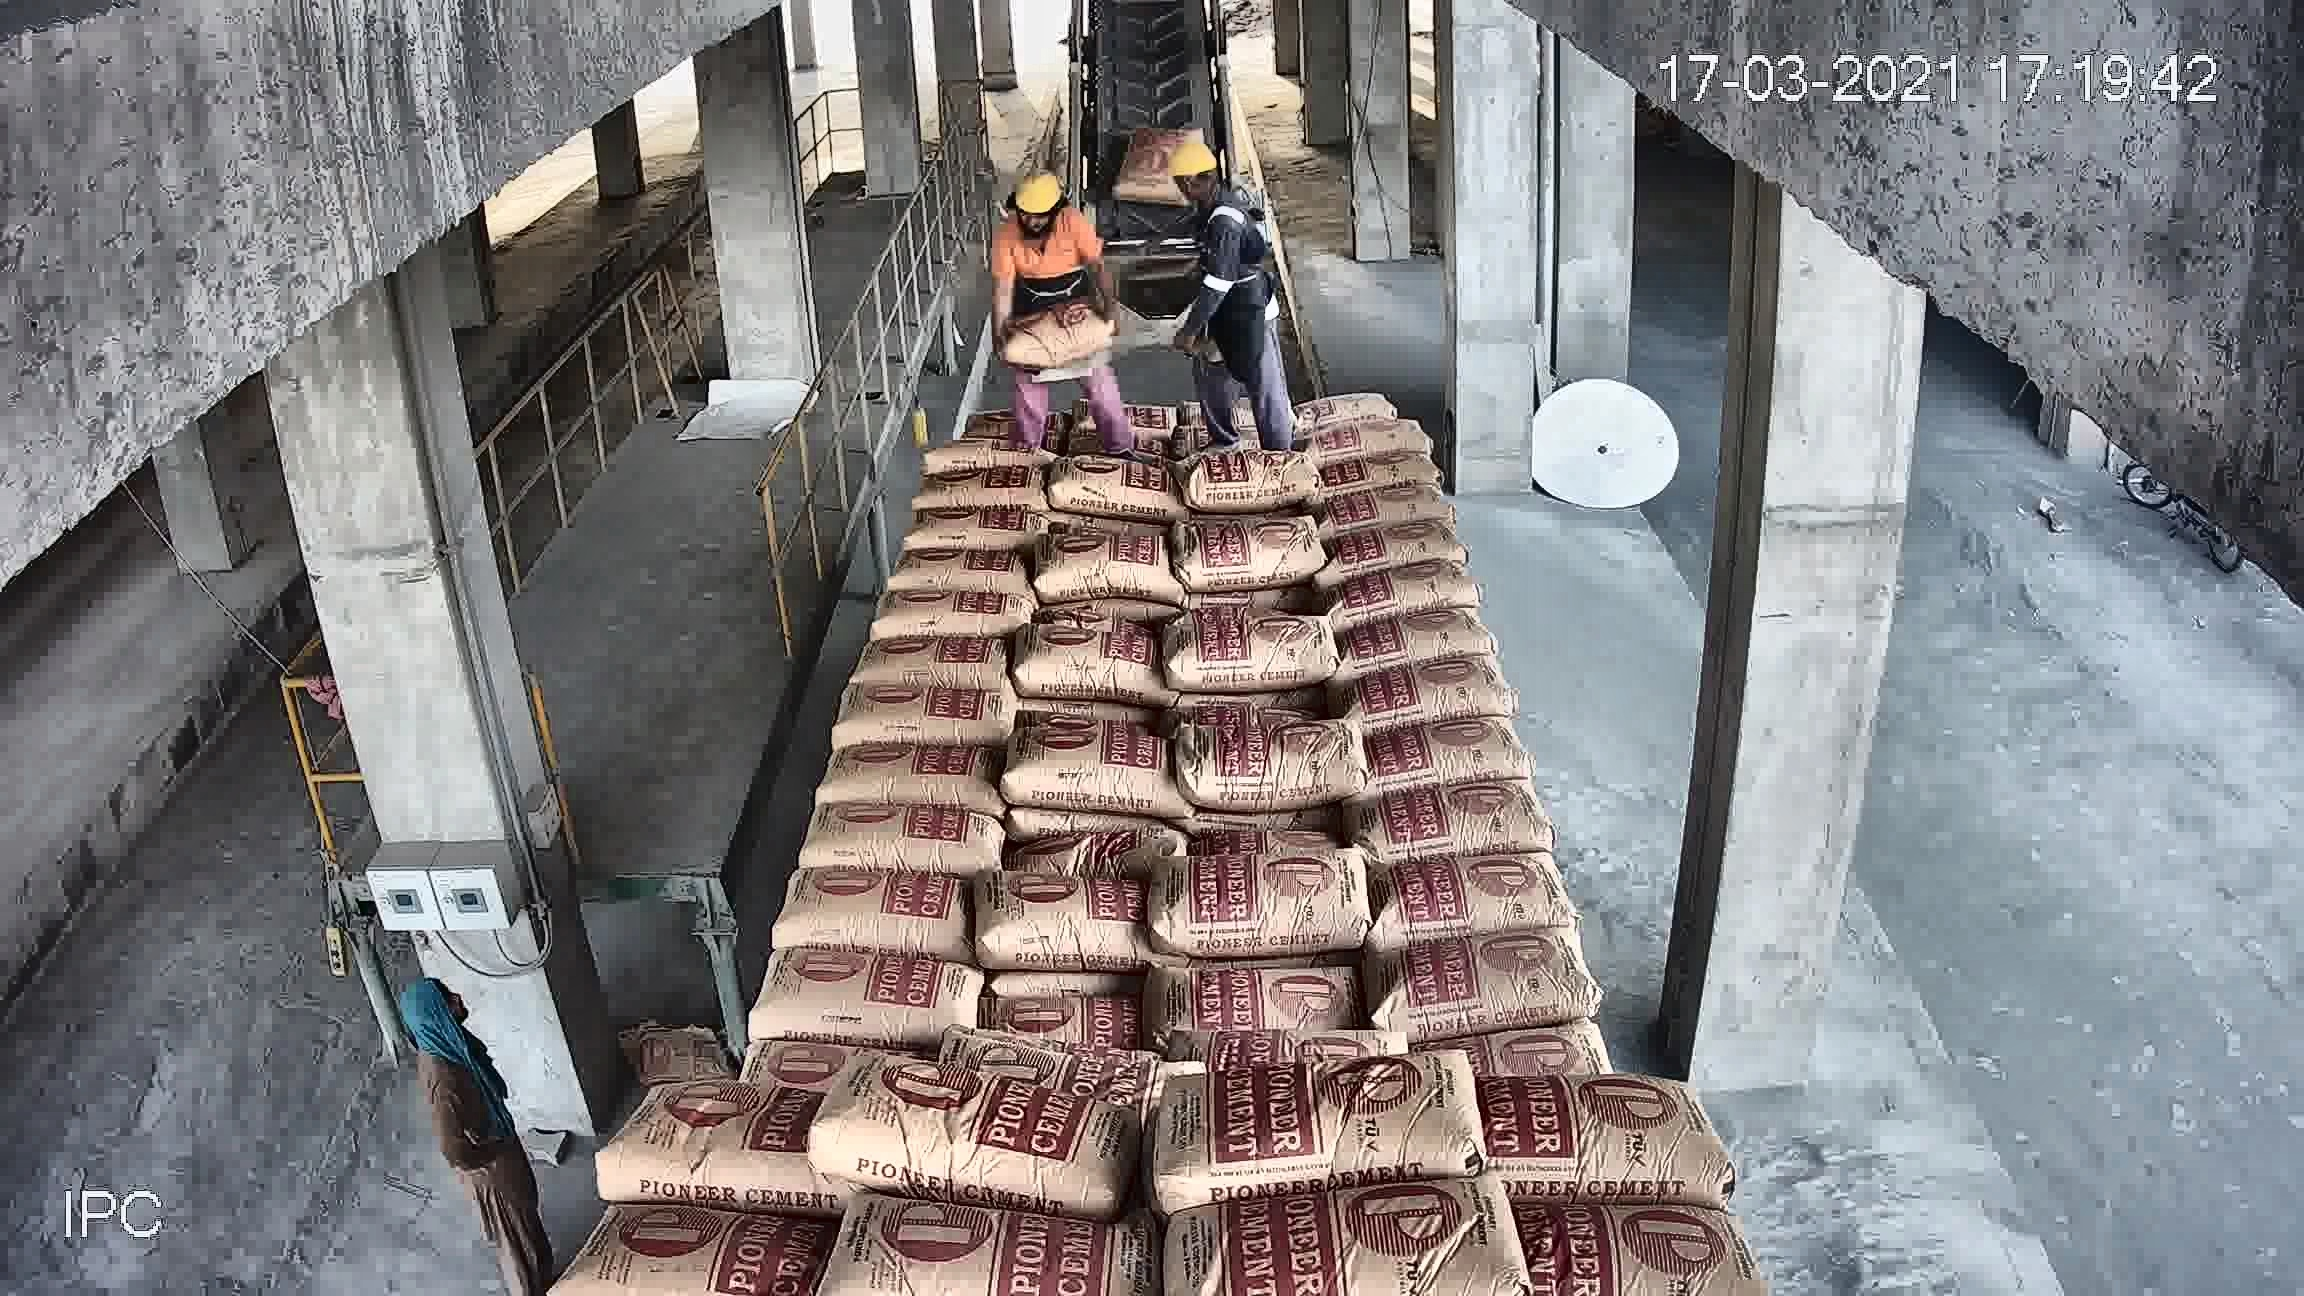bag: (1078, 361, 1223, 546), (1089, 22, 1211, 100)
bag_h: (1146, 1036, 1472, 1203), (804, 1051, 1152, 1195), (1165, 1155, 1514, 1296), (1480, 1071, 1719, 1206), (824, 1184, 1169, 1274), (585, 1074, 826, 1201), (1391, 899, 1612, 1035), (1161, 923, 1423, 1035), (1516, 1169, 1761, 1287), (949, 932, 1196, 1035), (530, 1199, 848, 1279), (744, 949, 973, 1055), (935, 994, 1215, 1073), (999, 756, 1171, 878), (1362, 836, 1581, 930), (748, 866, 975, 948), (1353, 771, 1554, 862), (962, 864, 1154, 954), (989, 707, 1165, 801), (994, 658, 1180, 745), (1442, 986, 1612, 1081), (1374, 695, 1521, 799), (1380, 630, 1519, 731), (1385, 578, 1502, 649), (1021, 617, 1157, 676), (1343, 400, 1438, 460), (1386, 560, 1483, 619), (1381, 514, 1470, 574), (1364, 473, 1454, 524), (1343, 348, 1421, 402), (1320, 307, 1394, 353)
belt: (1002, 27, 1310, 585)
